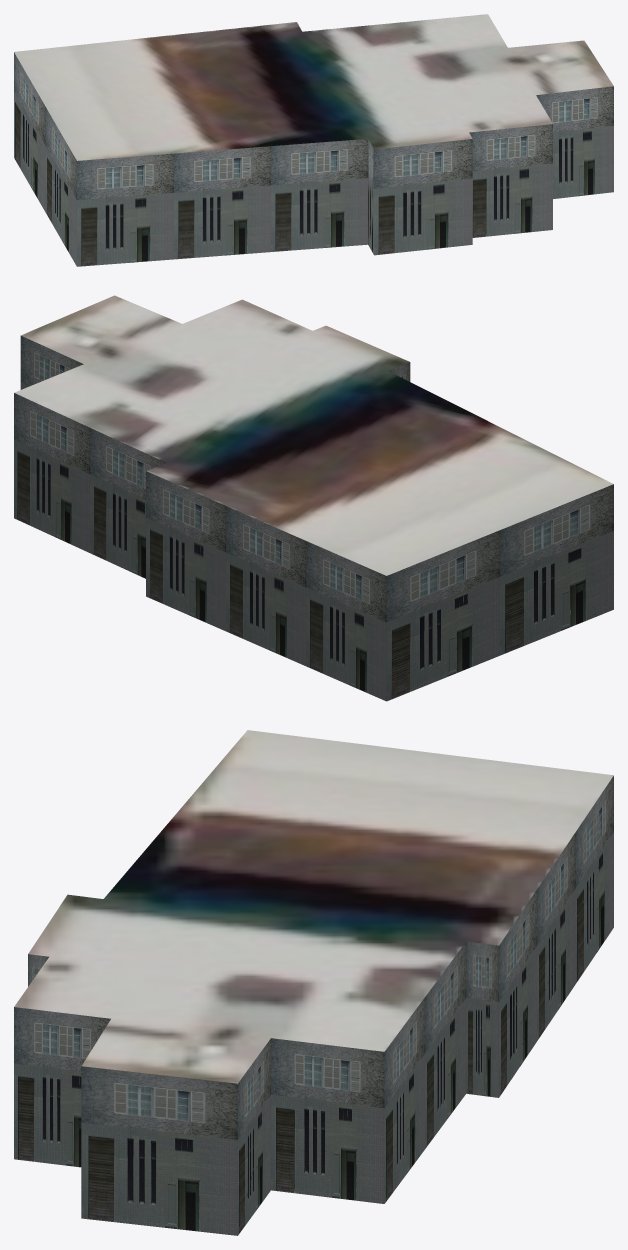
The model's file is T_1T6C94NVJ1.dae.
3 renders of one model, top to bottom at view 1: azimuth 30°, elevation 25°; view 2: azimuth 150°, elevation 25°; view 3: azimuth 270°, elevation 25°, orthographic. The views are drawn at different scales.
Parts seen in each view (by area): view 1: SketchUp (×12); view 2: SketchUp (×8); view 3: SketchUp (×15).
Part boxes in pixels (x1,y1,x2,y2): SketchUp (×12): [14, 14, 613, 266]; SketchUp (×8): [14, 295, 613, 701]; SketchUp (×15): [14, 730, 613, 1235].
Size of the model in its own units: 26.09 by 18.71 by 5.24.
3 materials, 3 textured.
